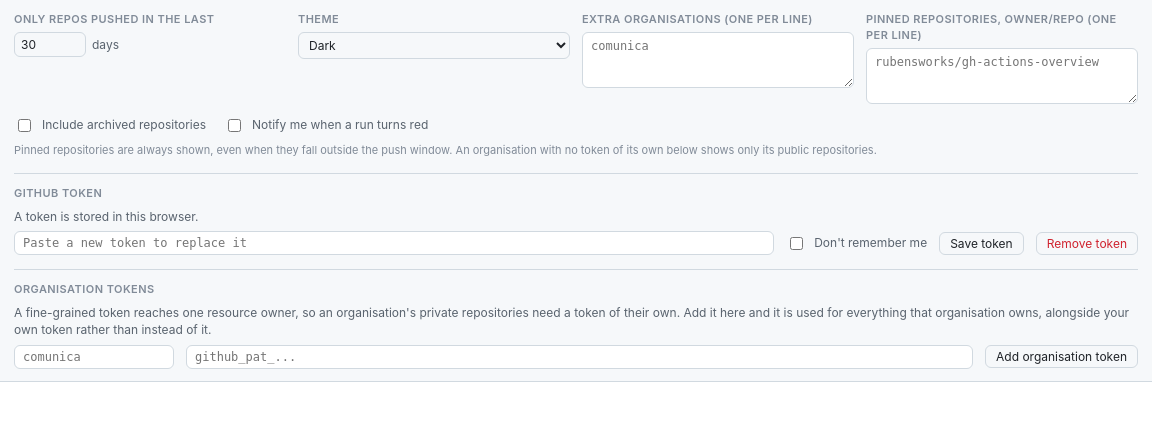
it: SettingsPanel › the token › reports a token the API rejects
This screenshot has width=1152, height=422.
Type "bad" into the password field named "Replace the personal access token" at point(394, 243), box [14,231,774,255]
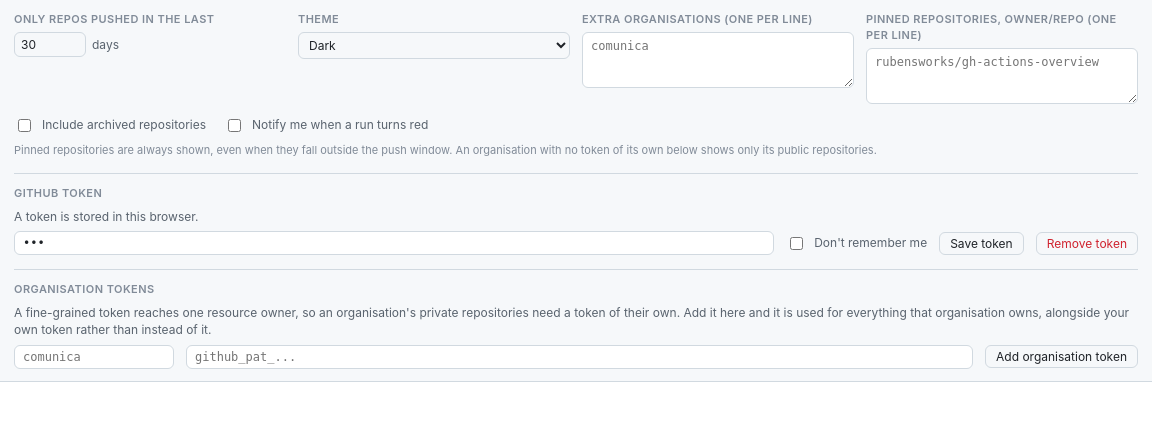
Click the button "Save token" at point(981, 243), box [939,232,1024,255]
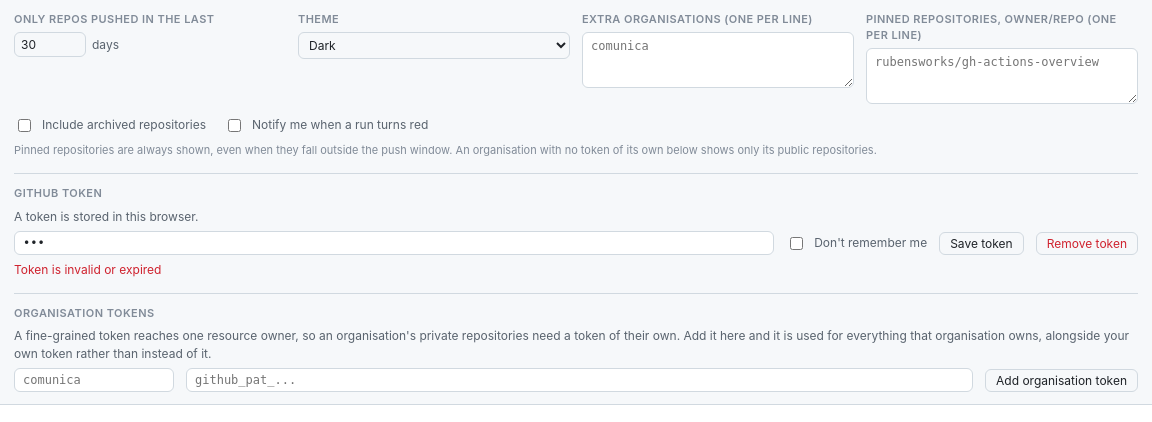
Result: the message reads "Token is invalid or expired" at [14,262,162,277]
